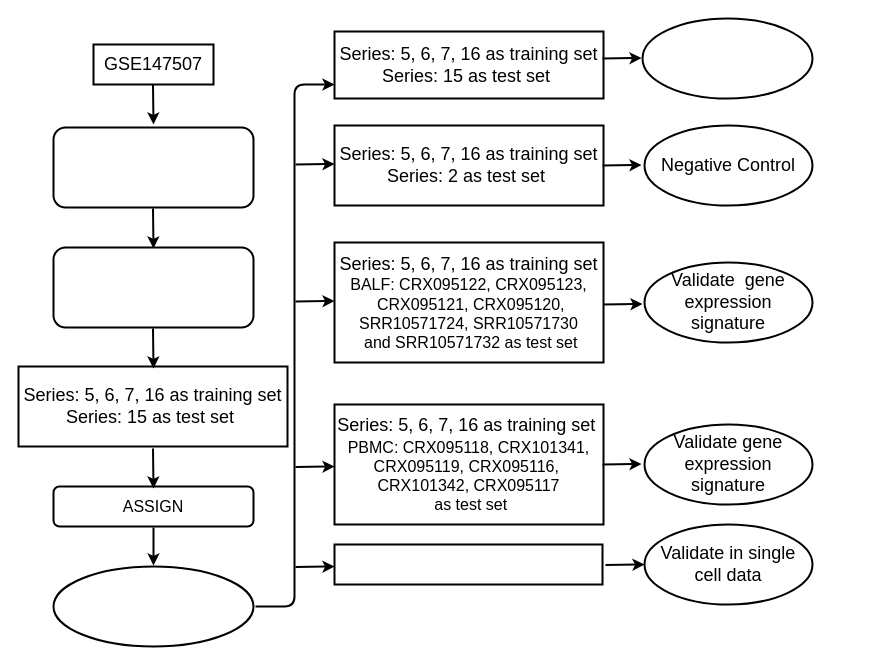
Some shapes in this 879 by 664 pixel diagram are drawn without their labels. The box of each missing label's shape, as (x1, y1, x2, y2) in pixels:
Excluded: not infected with SARS-CoV2 or not from Homo sapiens: (52, 126, 254, 208)
GSE145926 BALF of scRNA-seq: (333, 543, 603, 585)
PCA Remove batch effect PCA: (52, 246, 254, 328)
Positive Control: (641, 17, 813, 99)
SARS-CoV-2 gene expression signature: (52, 565, 254, 647)
